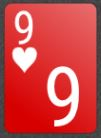Heart: (12, 47, 39, 73)
